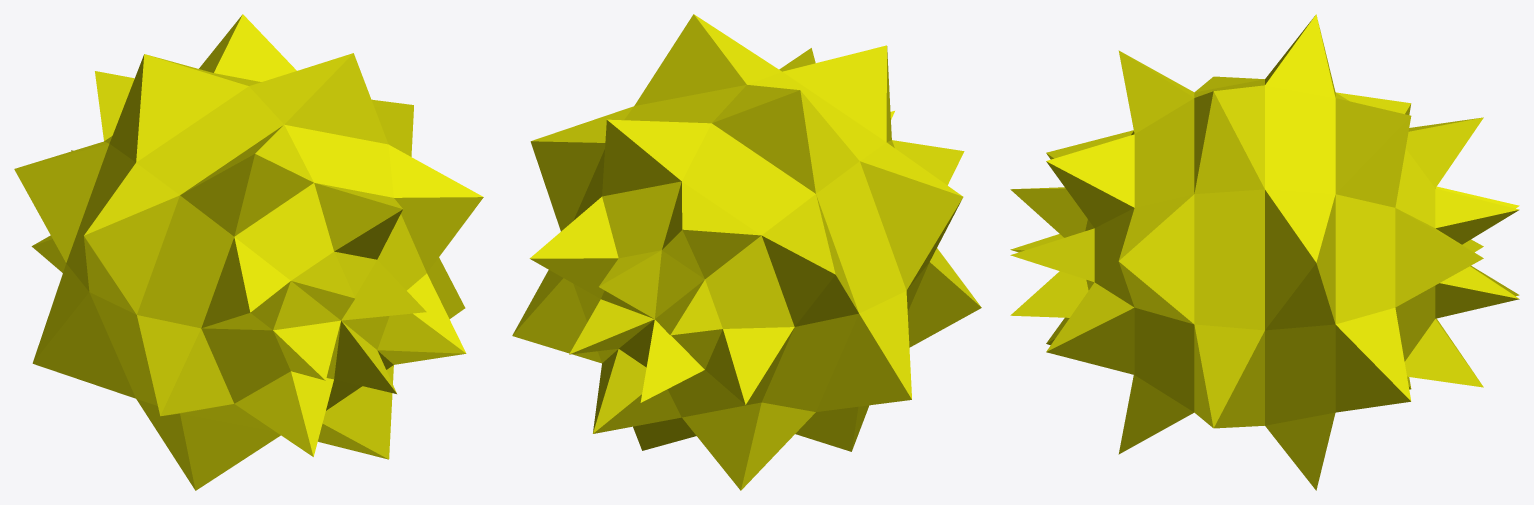
File: Boss.fbx
3 renders of one model, left to right at view 1: azimuth 30°, elevation 25°; view 2: azimuth 150°, elevation 25°; view 3: azimuth 270°, elevation 25°, orthographic.
Parts seen in each view (by area): view 1: pSphere1; view 2: pSphere1; view 3: pSphere1.
Boxes of the visible parts, x1=… form: pSphere1: x1=14, y1=14, x2=483, y2=490; pSphere1: x1=512, y1=14, x2=981, y2=490; pSphere1: x1=1010, y1=14, x2=1519, y2=490.
Bounding box in the file's own units: 8.14 × 8.14 × 9.41.
